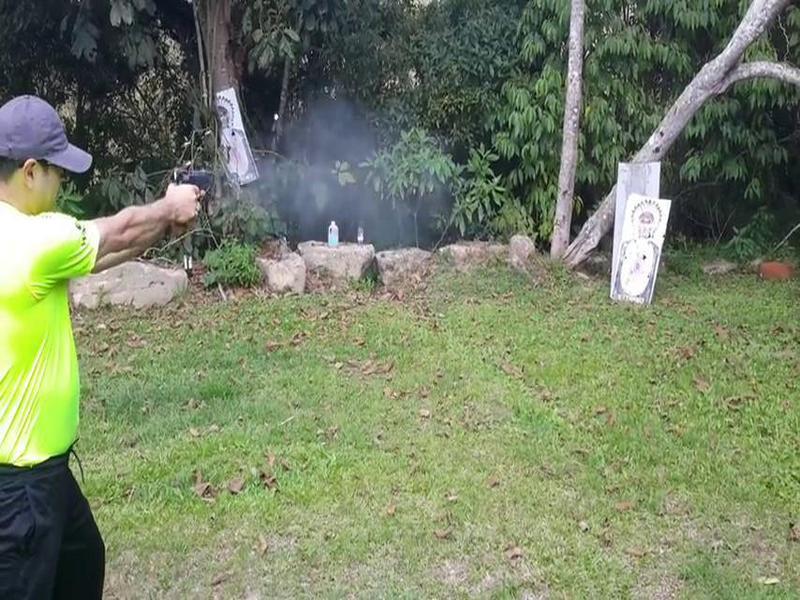Pistola: (167, 157, 219, 215)
